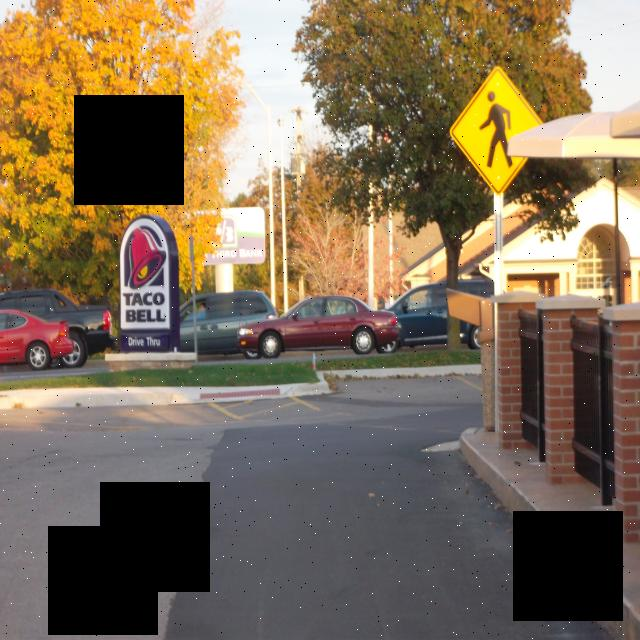warning: (448, 63, 542, 197)
